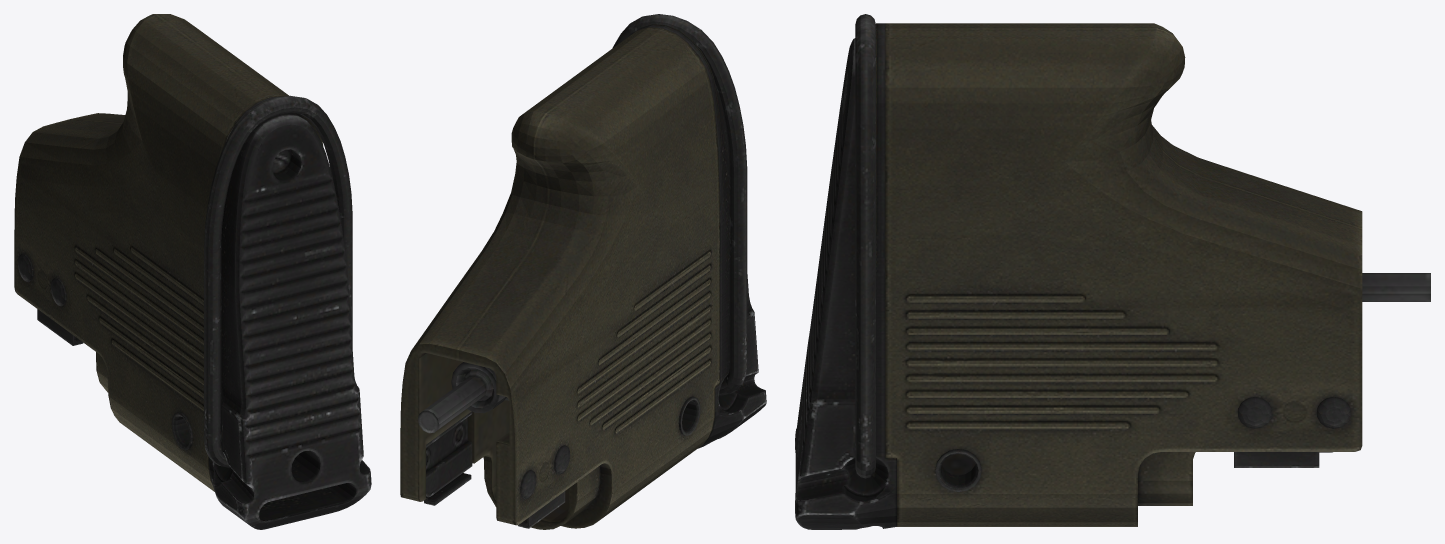
3 renders of one model, left to right at view 1: azimuth 30°, elevation 25°; view 2: azimuth 150°, elevation 25°; view 3: azimuth 270°, elevation 25°, orthographic. The views are drawn at different scales.
Parts seen in each view (by area): view 1: TW_661520fb6f8e1a96340afaa6_PZ_Import; view 2: TW_661520fb6f8e1a96340afaa6_PZ_Import; view 3: TW_661520fb6f8e1a96340afaa6_PZ_Import.
Boxes of the visible parts, box(x1,y1,x2,y2) form: TW_661520fb6f8e1a96340afaa6_PZ_Import: box(14, 14, 371, 529); TW_661520fb6f8e1a96340afaa6_PZ_Import: box(400, 14, 766, 529); TW_661520fb6f8e1a96340afaa6_PZ_Import: box(795, 14, 1430, 529).
Bounding box in the file's own units: 0.0319 × 0.1006 × 0.0859.
1 material, 1 textured.
